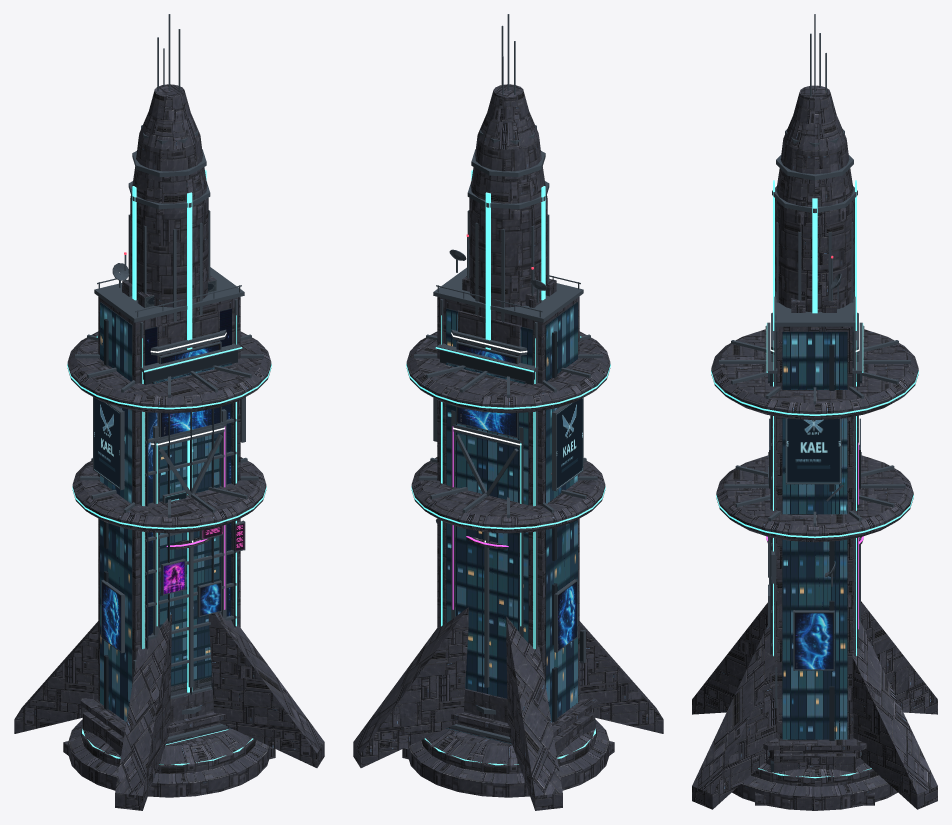
File: city-kit.gltf
3 renders of one model, left to right at view 1: azimuth 30°, elevation 25°; view 2: azimuth 150°, elevation 25°; view 3: azimuth 270°, elevation 25°, orthographic.
Parts seen in each view (by area): view 1: 11_CentralRing_GameMesh, 12_KAEL_GameMesh, 08_ORION_GameMesh, 09_NC77_GameMesh; view 2: 11_CentralRing_GameMesh, 12_KAEL_GameMesh, 09_NC77_GameMesh, 08_ORION_GameMesh; view 3: 11_CentralRing_GameMesh, 12_KAEL_GameMesh, 09_NC77_GameMesh, 08_ORION_GameMesh.
Part boxes in pixels (x1,y1,x2,y2): 11_CentralRing_GameMesh: (14, 14, 324, 810); 12_KAEL_GameMesh: (63, 252, 275, 759); 08_ORION_GameMesh: (80, 310, 231, 744); 09_NC77_GameMesh: (96, 336, 242, 745); 11_CentralRing_GameMesh: (353, 14, 663, 810); 12_KAEL_GameMesh: (402, 234, 614, 759); 09_NC77_GameMesh: (435, 336, 581, 743); 08_ORION_GameMesh: (446, 310, 597, 744); 11_CentralRing_GameMesh: (692, 14, 937, 810); 12_KAEL_GameMesh: (755, 255, 874, 805); 09_NC77_GameMesh: (763, 322, 866, 764); 08_ORION_GameMesh: (763, 312, 866, 766).
Bounding box in the file's own units: 28.71 × 97 × 28.71.
Materials: 26 (16 with a texture image).
